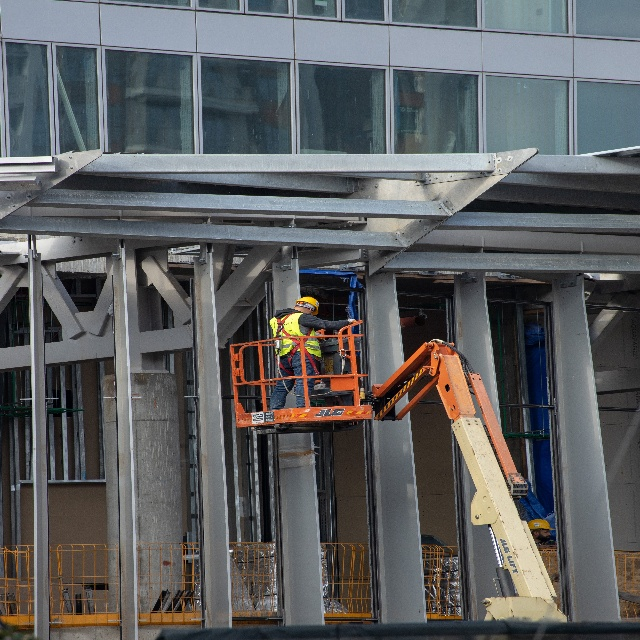Guantes: (345, 318, 356, 325), (315, 332, 323, 340)
